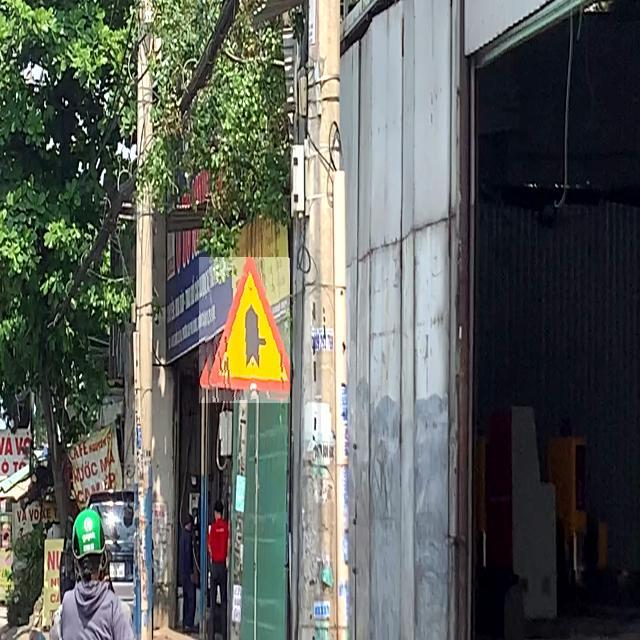W-207b: (199, 258, 290, 404)
